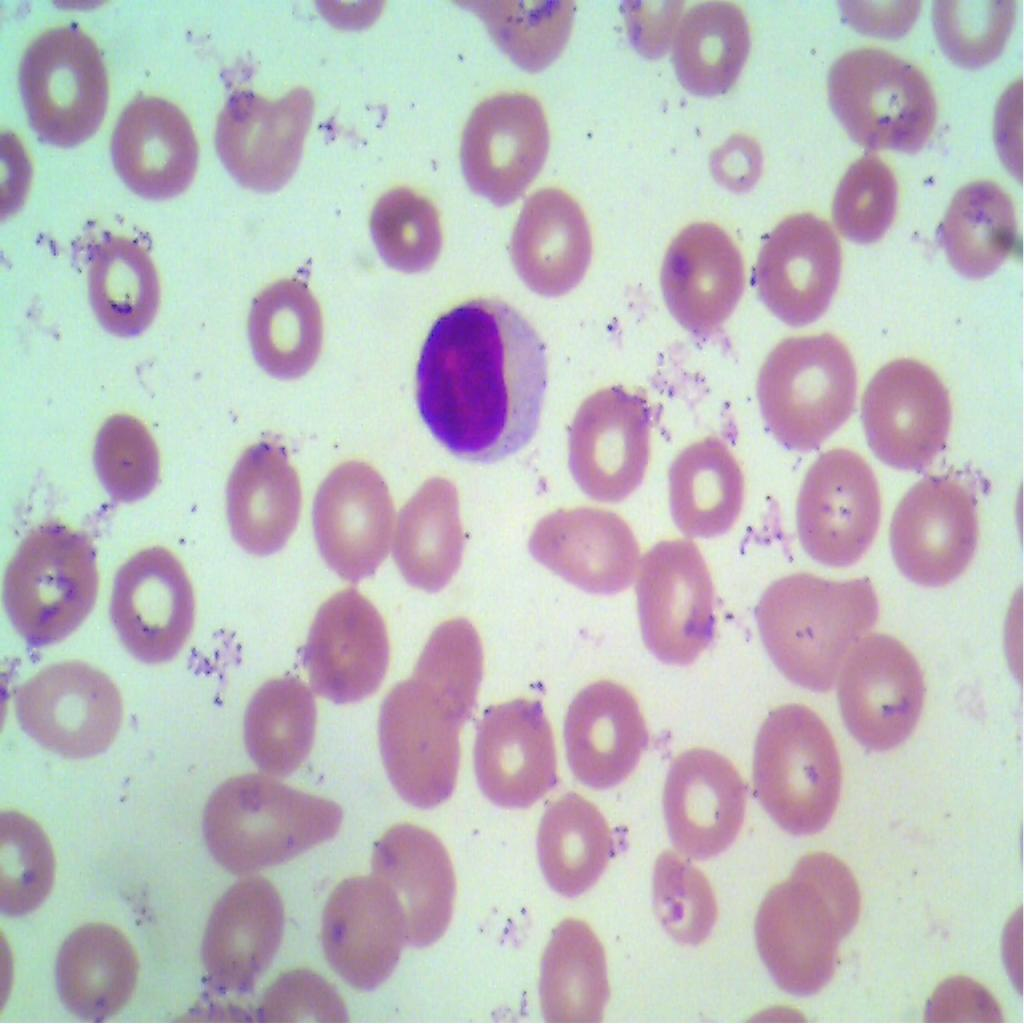Eritrosit: (753, 552, 873, 698), (728, 684, 844, 828), (9, 12, 115, 154), (744, 322, 864, 447), (784, 435, 889, 575), (106, 528, 206, 674), (202, 770, 343, 871), (18, 652, 128, 778), (858, 355, 968, 481), (242, 266, 342, 401), (355, 810, 462, 936), (823, 631, 938, 748), (299, 452, 395, 588), (468, 694, 578, 812), (652, 208, 746, 345), (622, 535, 718, 669), (104, 90, 204, 218), (220, 428, 314, 564), (879, 477, 993, 589), (824, 40, 939, 150), (559, 374, 656, 504), (654, 421, 755, 542), (456, 81, 550, 210), (6, 518, 99, 648), (648, 743, 748, 861), (522, 497, 642, 595), (526, 908, 628, 1023), (190, 874, 293, 986), (76, 227, 173, 345), (498, 180, 598, 294), (298, 584, 392, 705), (662, 0, 766, 108), (373, 677, 461, 802), (315, 871, 408, 989), (750, 207, 840, 325), (219, 94, 322, 197), (928, 177, 1023, 288), (532, 787, 626, 897), (46, 920, 146, 1023), (626, 842, 726, 945), (80, 404, 174, 511), (756, 870, 833, 998), (360, 164, 446, 278), (386, 479, 473, 589), (564, 678, 651, 788), (792, 842, 866, 954), (236, 664, 311, 772), (410, 612, 481, 707), (0, 812, 63, 917), (836, 142, 898, 245), (698, 120, 776, 200), (926, 0, 1016, 64)
Limfosit: (404, 290, 550, 474)
